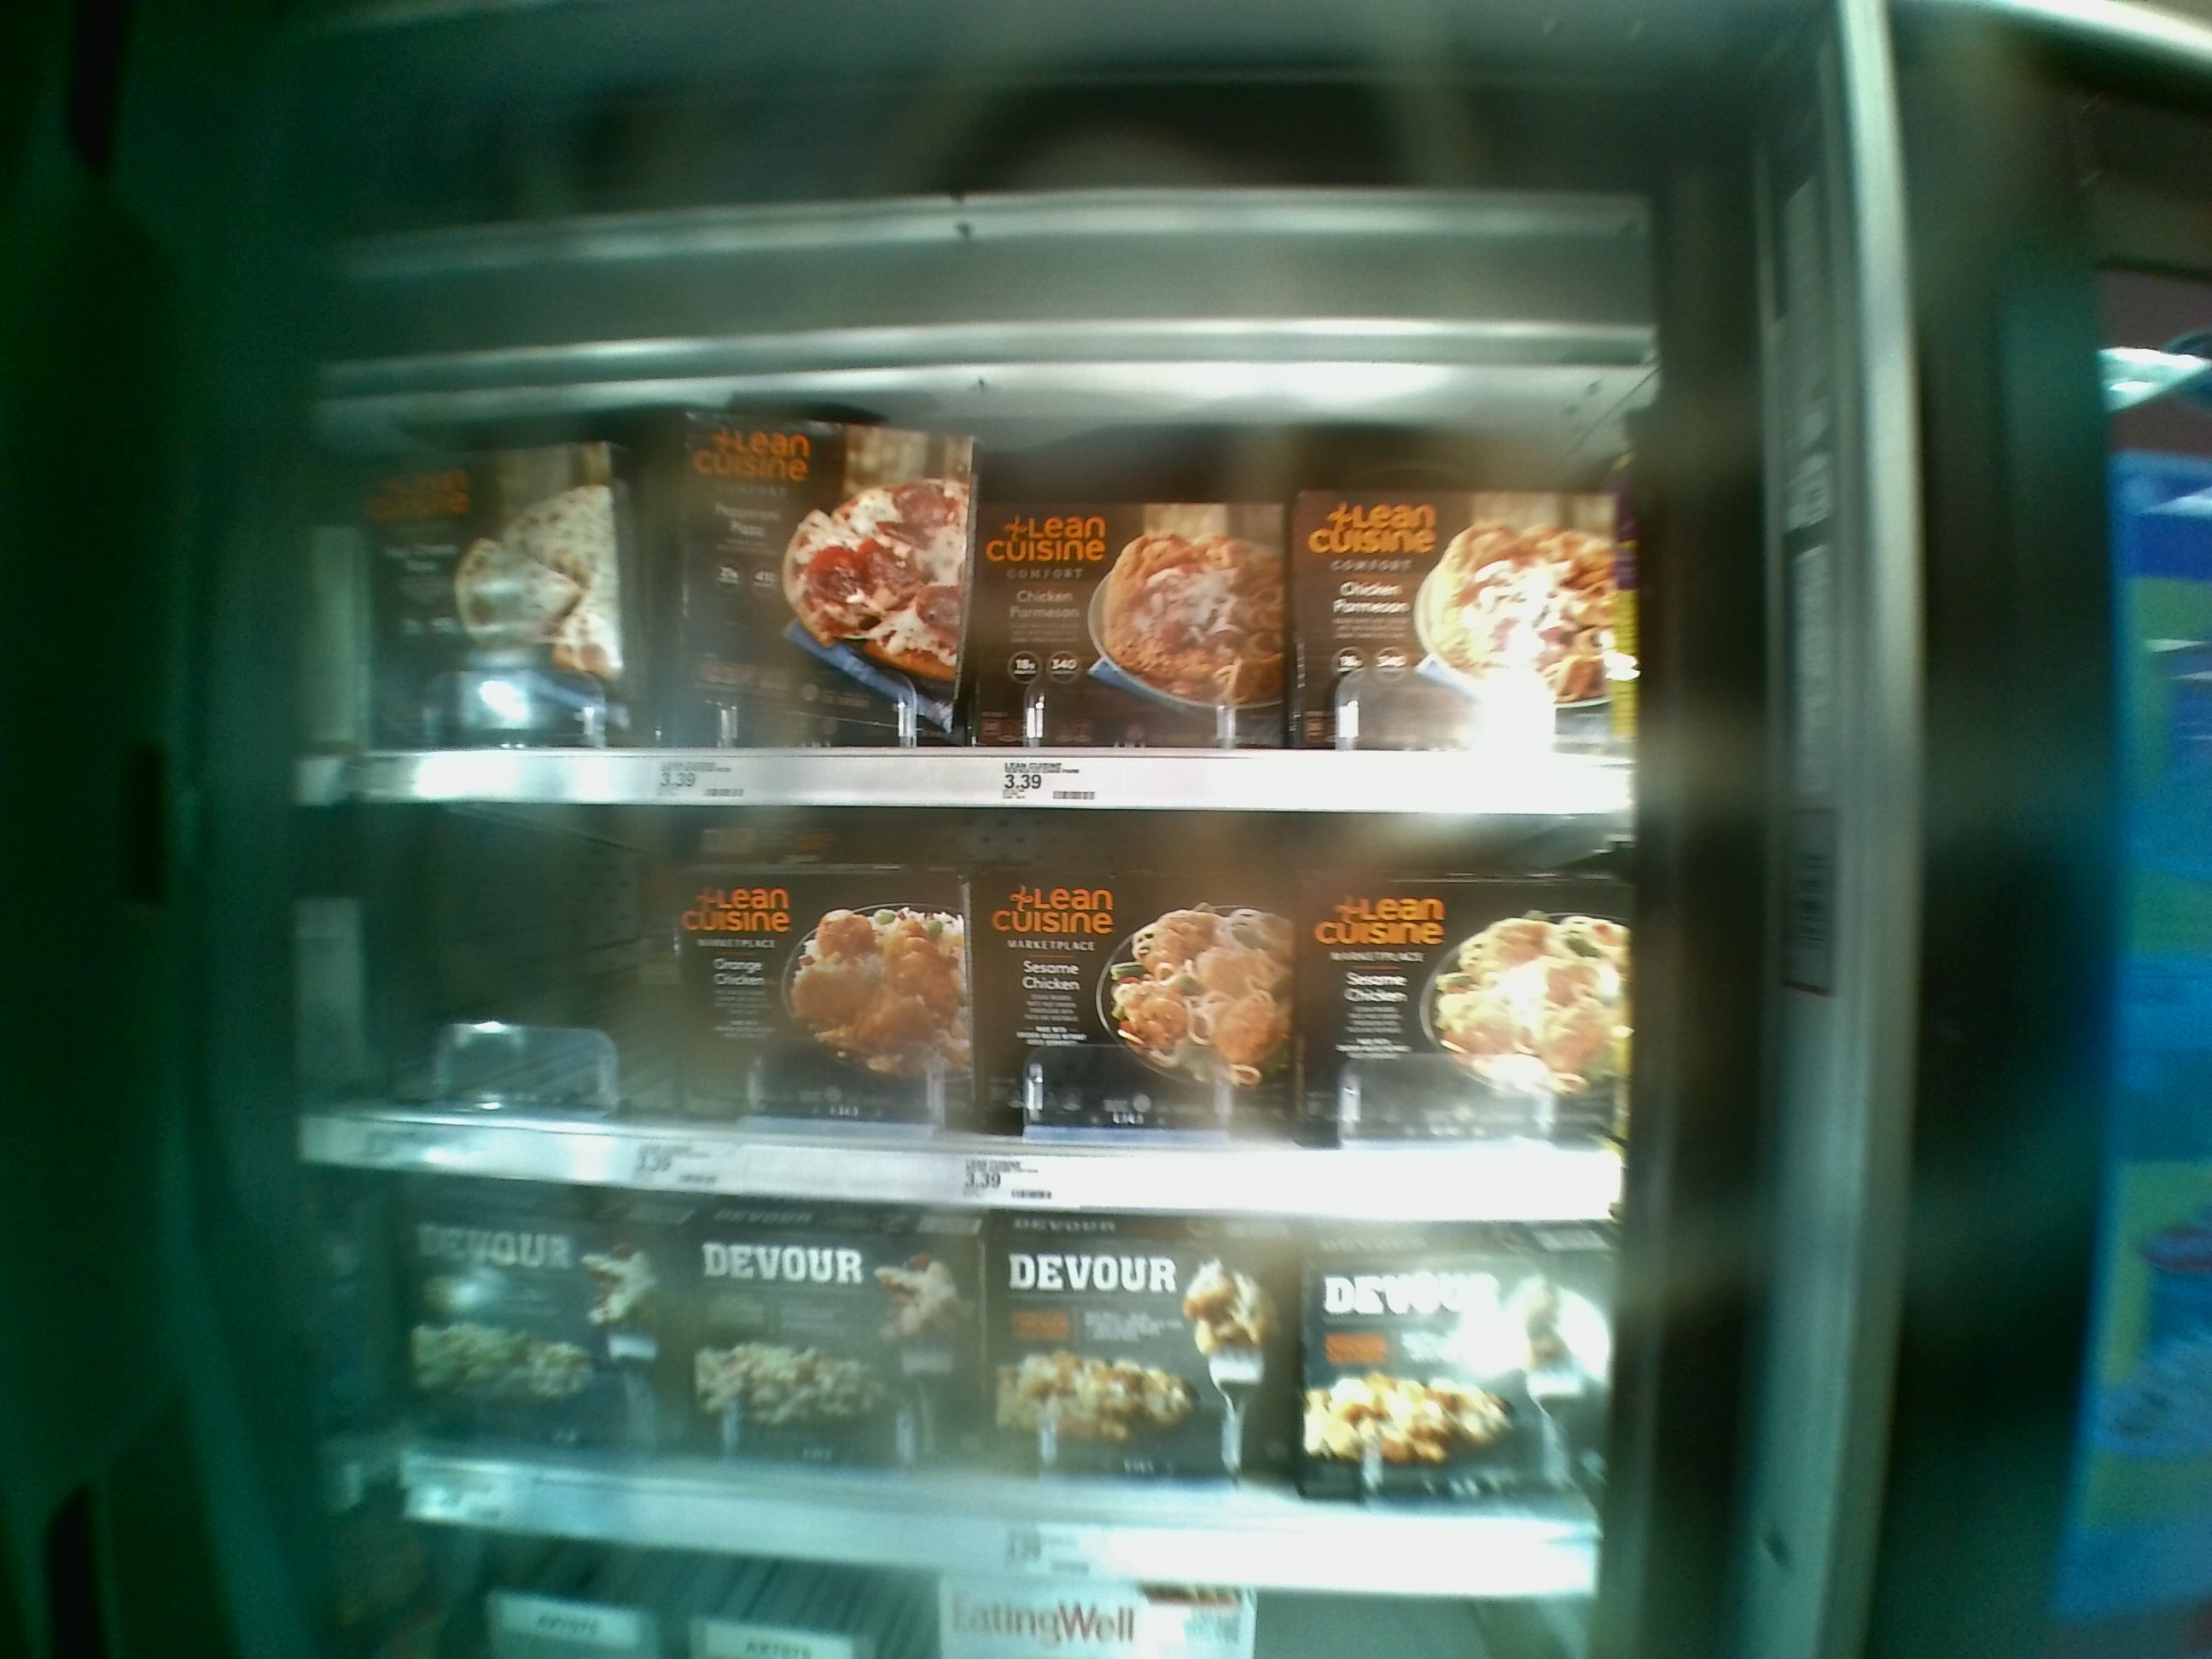shelf: (320, 390, 1639, 814), (301, 807, 1629, 1220)
